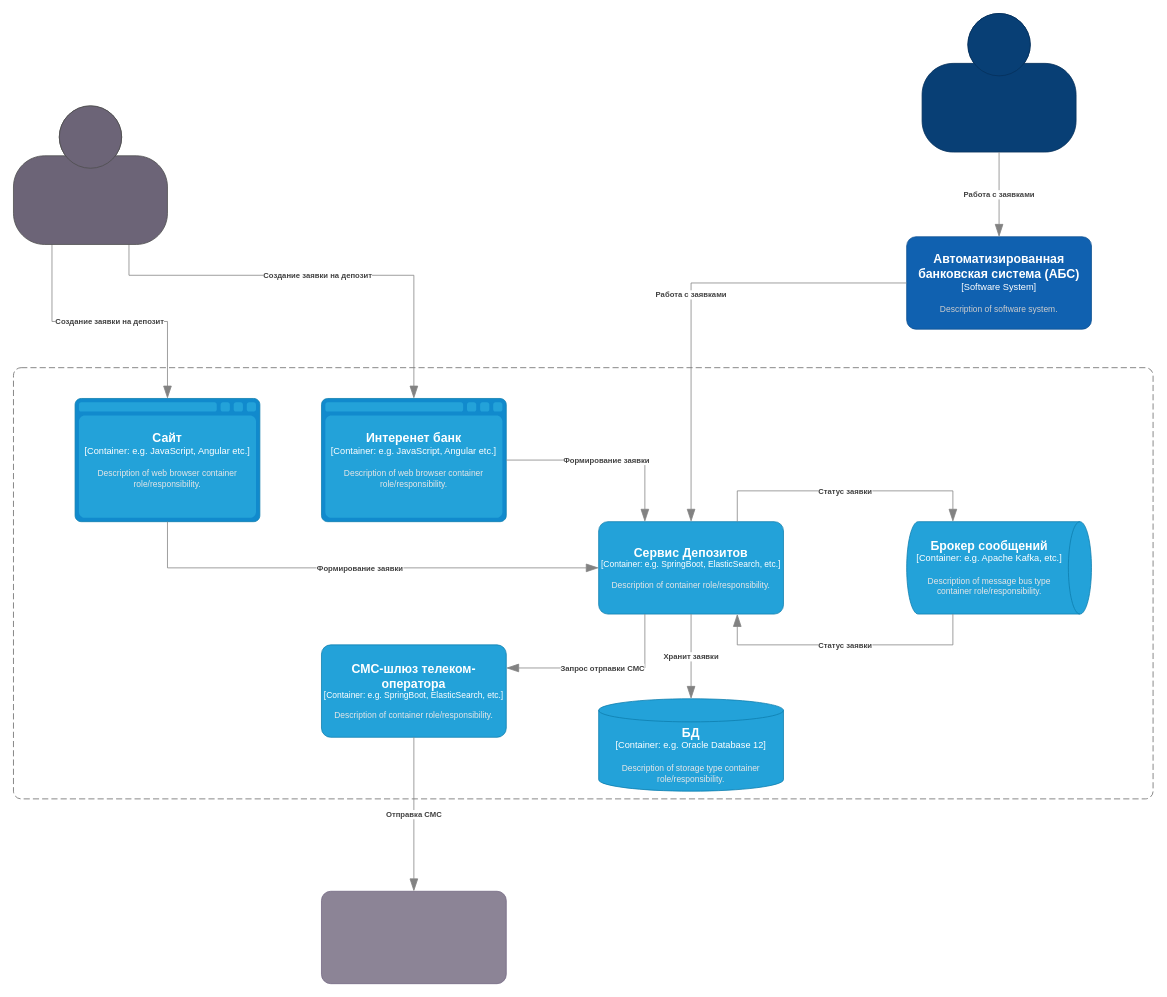
The diagram is 1167 pixels wide and 997 high, and some of its shapes have lost their labels. Here are the shapes that lost their labels. From the top down, the box of each, then its label:
(921, 13, 1076, 152): Сотрудник банка [Person] Description of person.
(13, 105, 167, 244): Клиент [Person] Description of external person.
(13, 367, 1153, 799): Банк "Стандарт" [Software System]
(321, 891, 506, 984): Телеком-оператор [Software System] Description of external software system.
